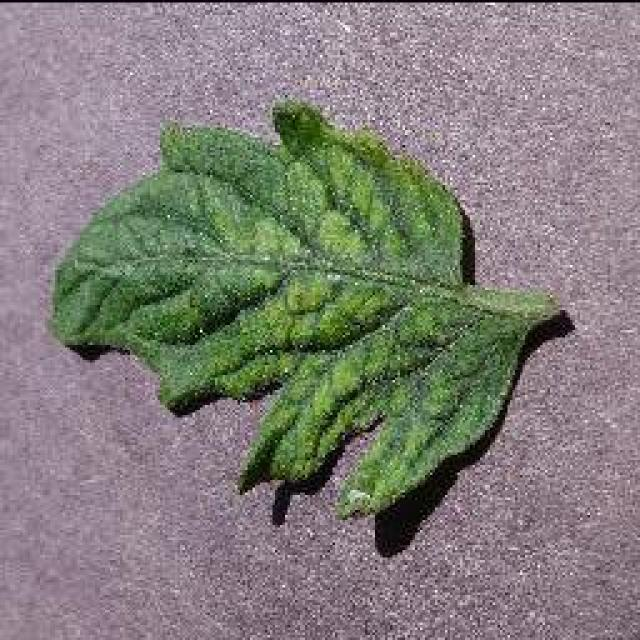Tomato___Tomato_mosaic_virus: (52, 100, 558, 515)
